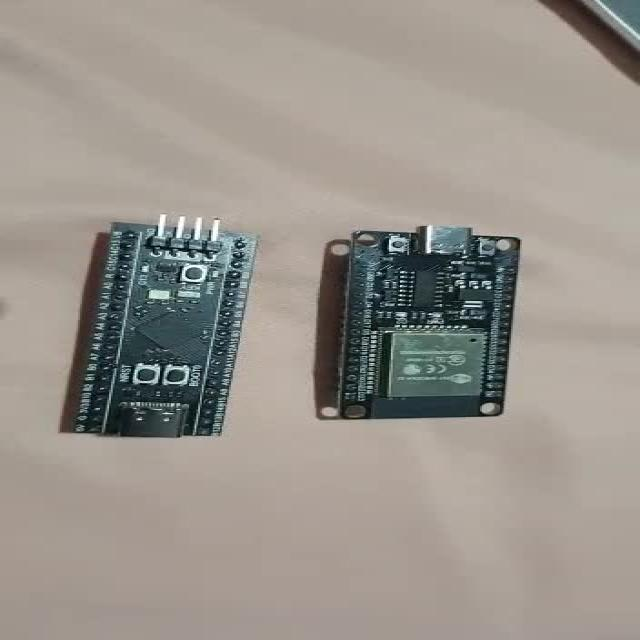ESP32: (331, 226, 520, 420)
STM32: (70, 216, 256, 439)
